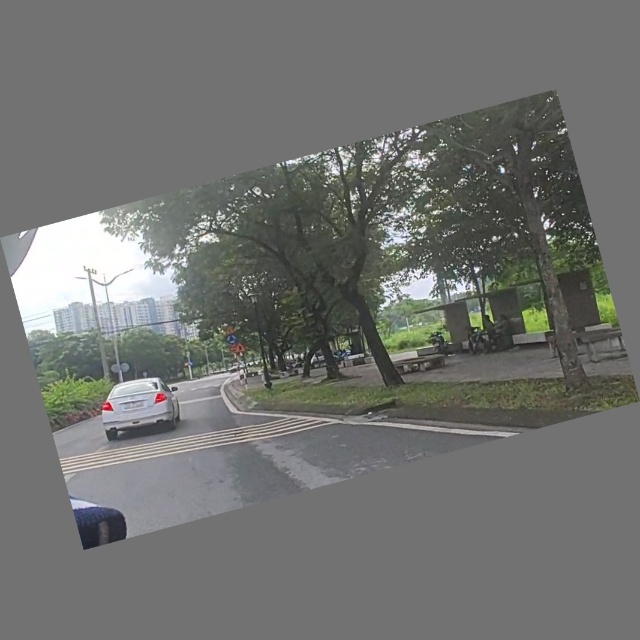R.302a: (188, 361, 195, 368)
R.303: (226, 334, 238, 346)
W.207: (232, 341, 248, 356)
W.224: (223, 325, 235, 336)
